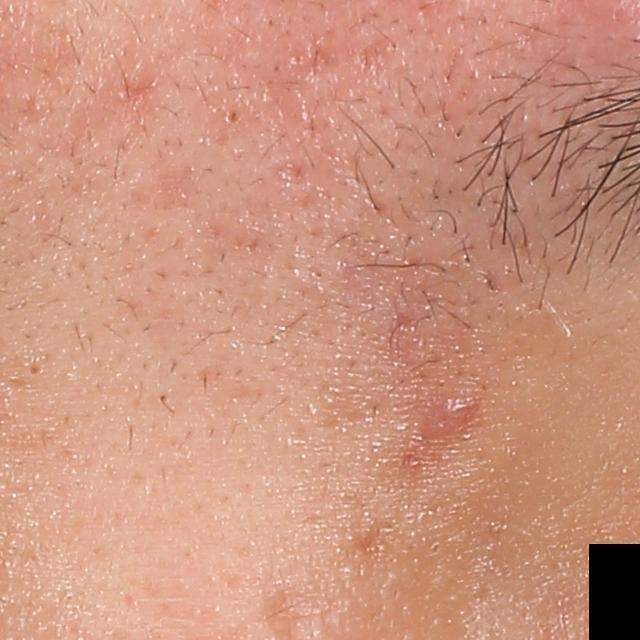comedo: (23, 358, 44, 379), (222, 106, 242, 125)
papule: (410, 393, 479, 444)
